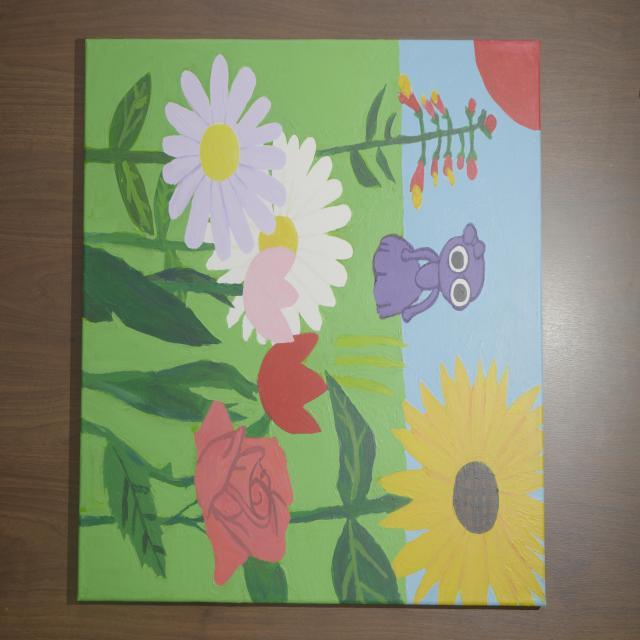painting: (79, 40, 544, 605)
